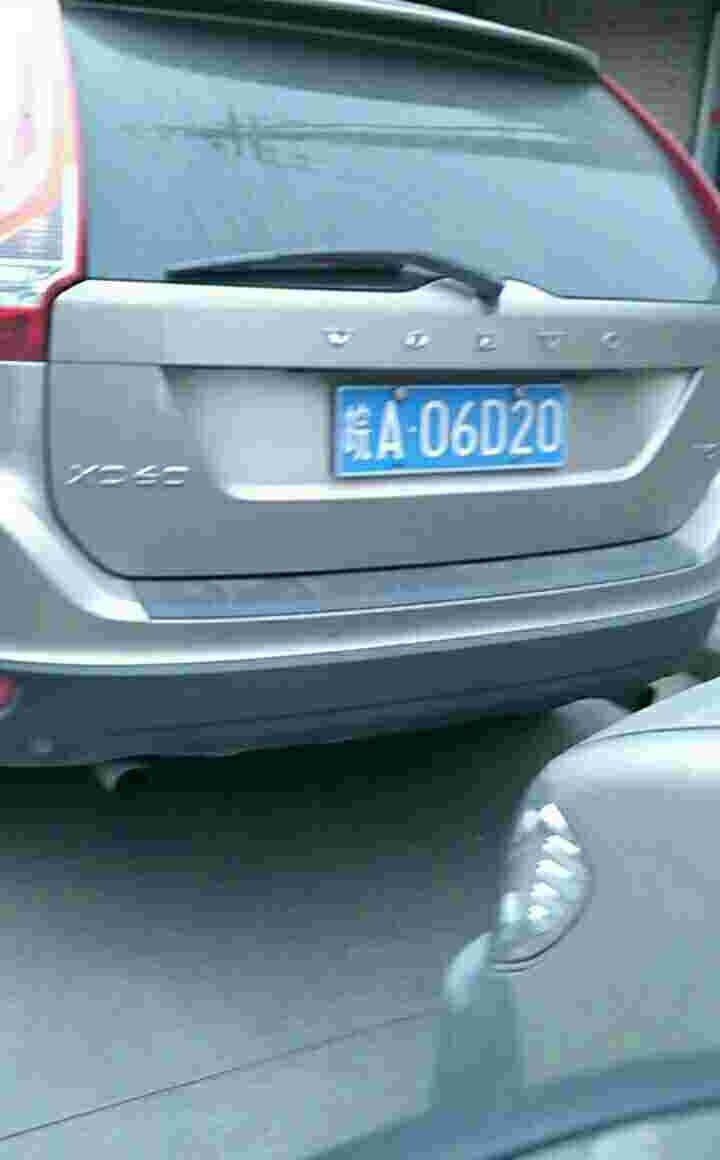license_plate: (334, 390, 573, 464)
